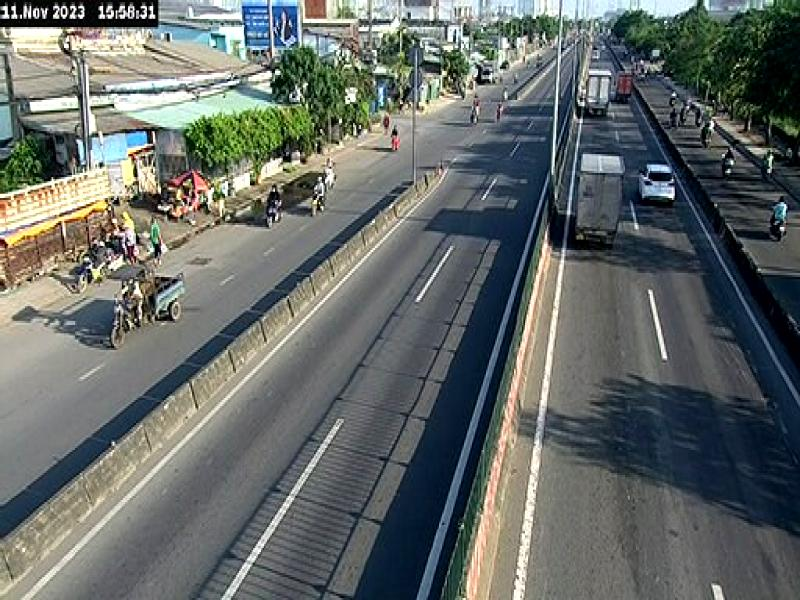truck: (572, 154, 627, 246), (582, 66, 614, 120)
